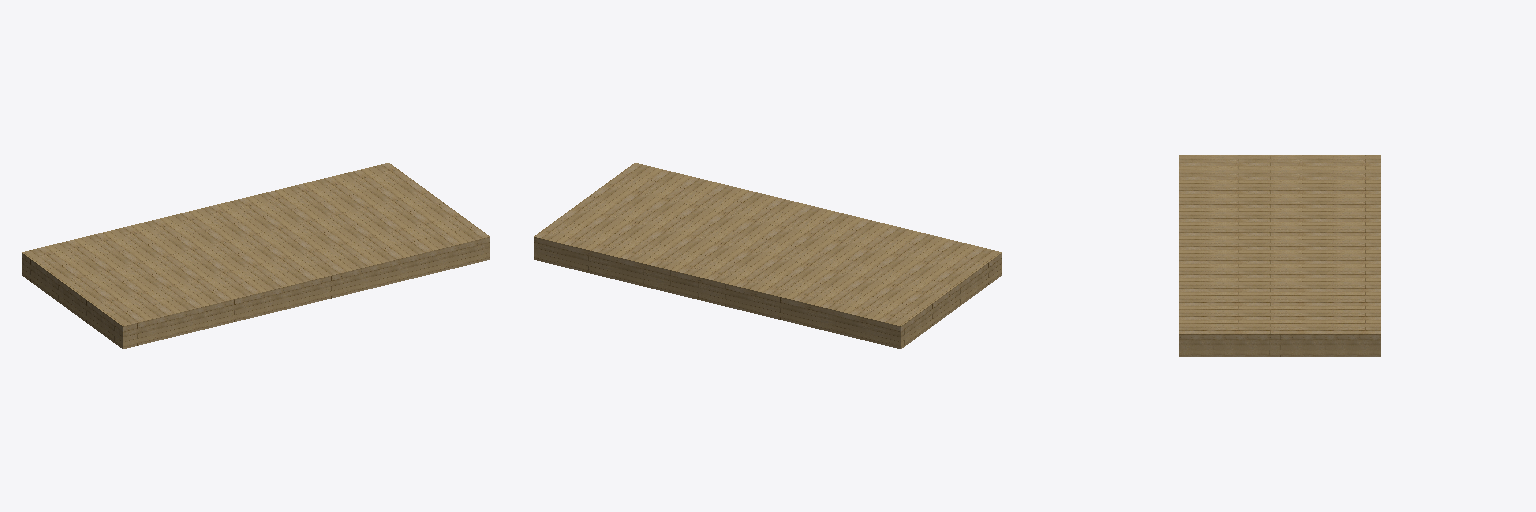
The picture shows the model from 3 angles: view 1: azimuth 30°, elevation 25°; view 2: azimuth 150°, elevation 25°; view 3: azimuth 270°, elevation 25°; orthographic projection.
Parts seen in each view (by area): view 1: Stage; view 2: Stage; view 3: Stage.
Part boxes in pixels (x1,y1,x2,y2): Stage: (22,163,489,348); Stage: (534,163,1001,348); Stage: (1179,155,1380,356).
Bounding box in the file's own units: 6.7 × 0.4 × 3.2.
Materials: 1 (1 with a texture image).